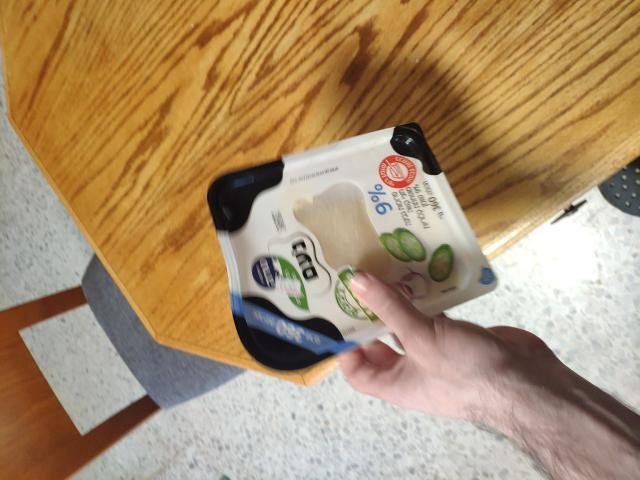cheese: (200, 127, 451, 379)
